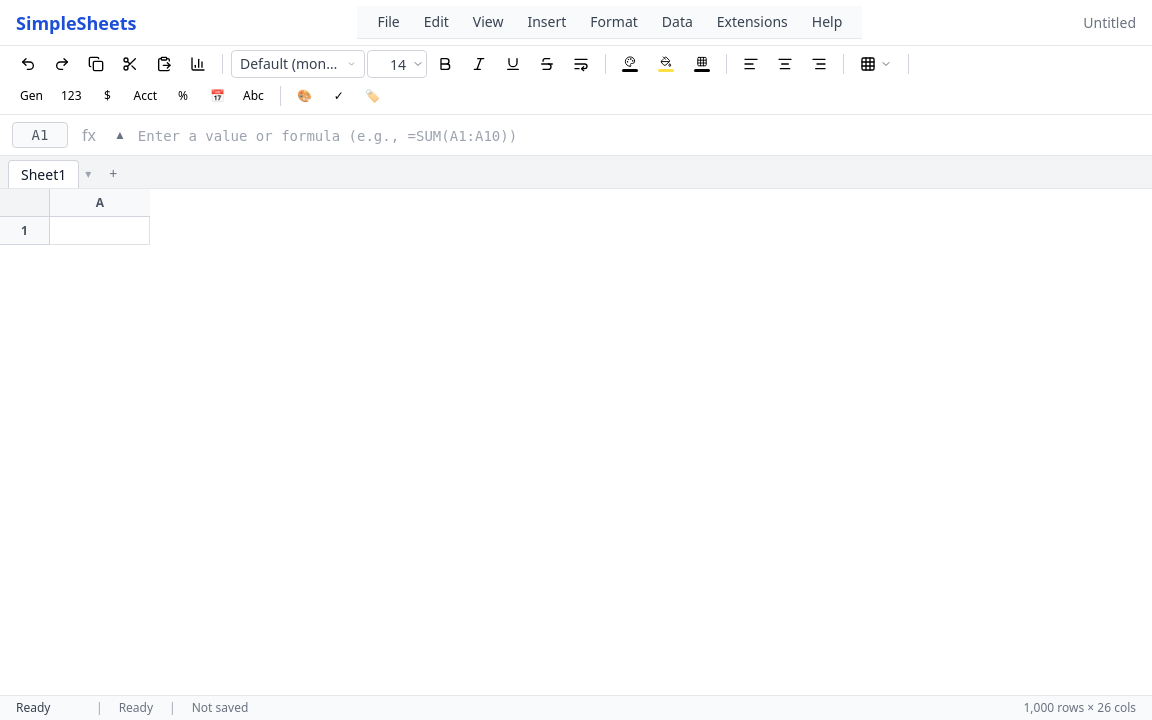
App File System Access integration › Save retains a file handle and records it in the MRU
What coordinates should you click on to do the following:
click the button "File"
I would click on:
 (389, 22)
Its box is [365,8,412,36].
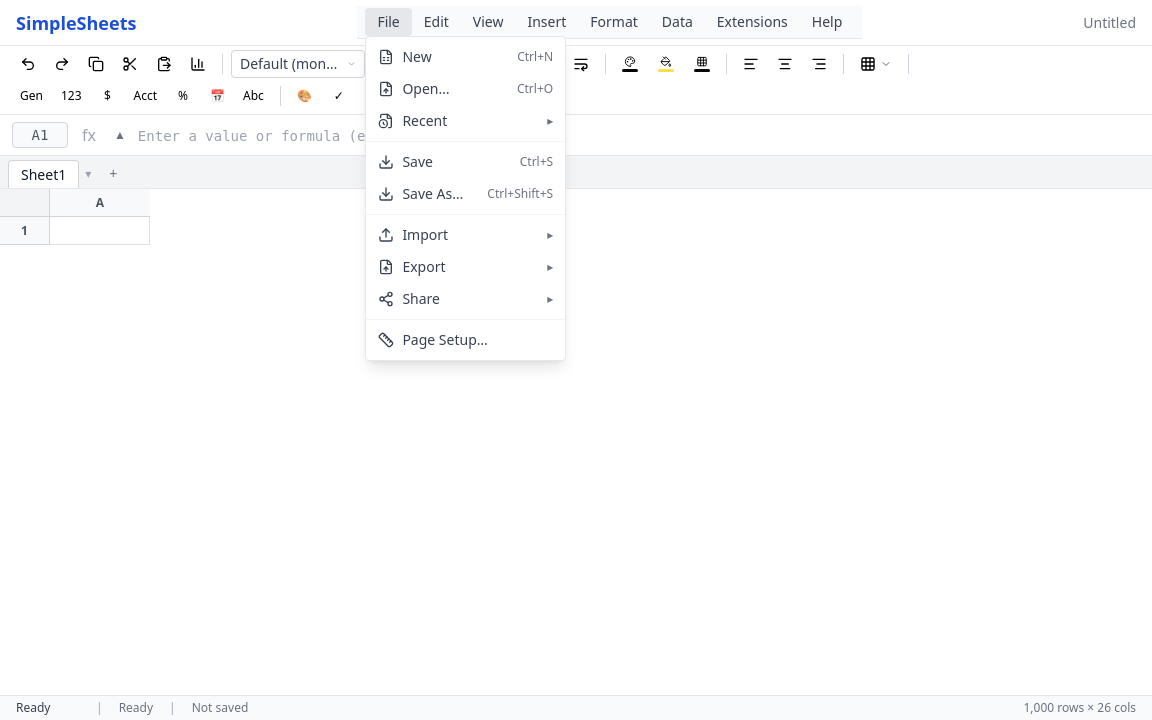
What coordinates should you click on to do the following:
click the text "Save"
I would click on:
 (418, 162)
Its box is [402,152,433,171].
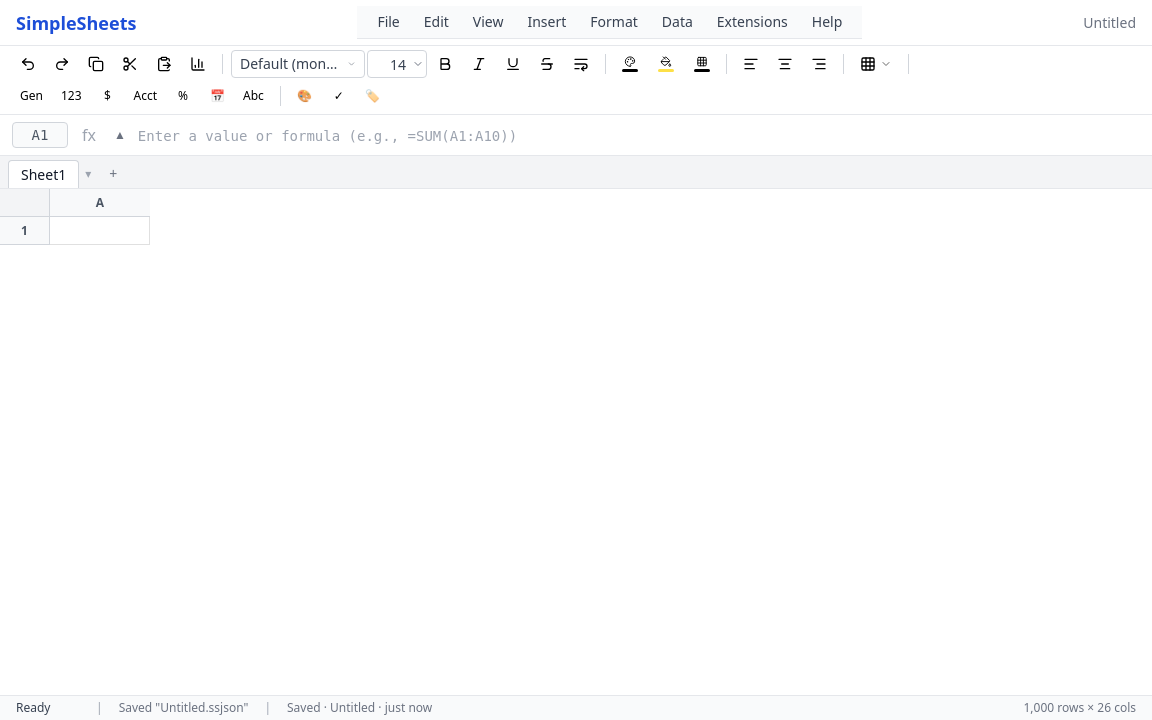
Expected: the text with test id "save-state" shows "Saved ·", [287,699,432,716]
